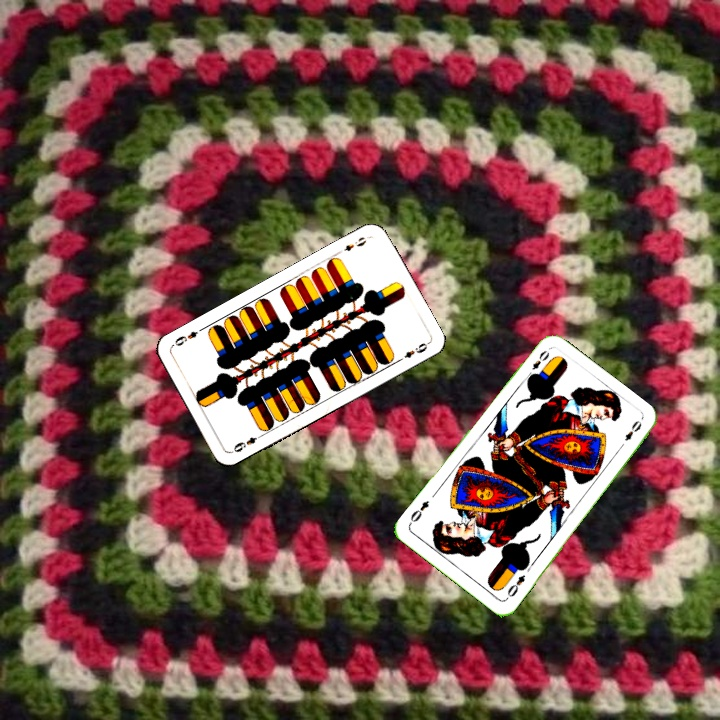E9: (229, 430, 265, 455), (340, 233, 369, 254)
EO: (522, 346, 552, 381), (502, 571, 528, 602)
